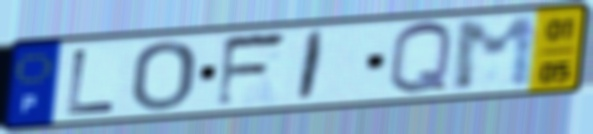F: (212, 29, 293, 111)
I: (293, 28, 329, 105)
L: (63, 47, 121, 118)
M: (451, 13, 539, 95)
O: (129, 38, 200, 114)
Q: (385, 19, 457, 99)
